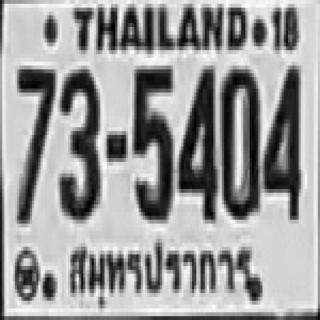N00: (220, 66, 258, 216)
N03: (58, 66, 98, 216)
N04: (177, 64, 216, 218), (262, 62, 299, 216)
N05: (132, 62, 171, 216)
N07: (15, 66, 54, 220)
P57: (62, 230, 256, 300)
